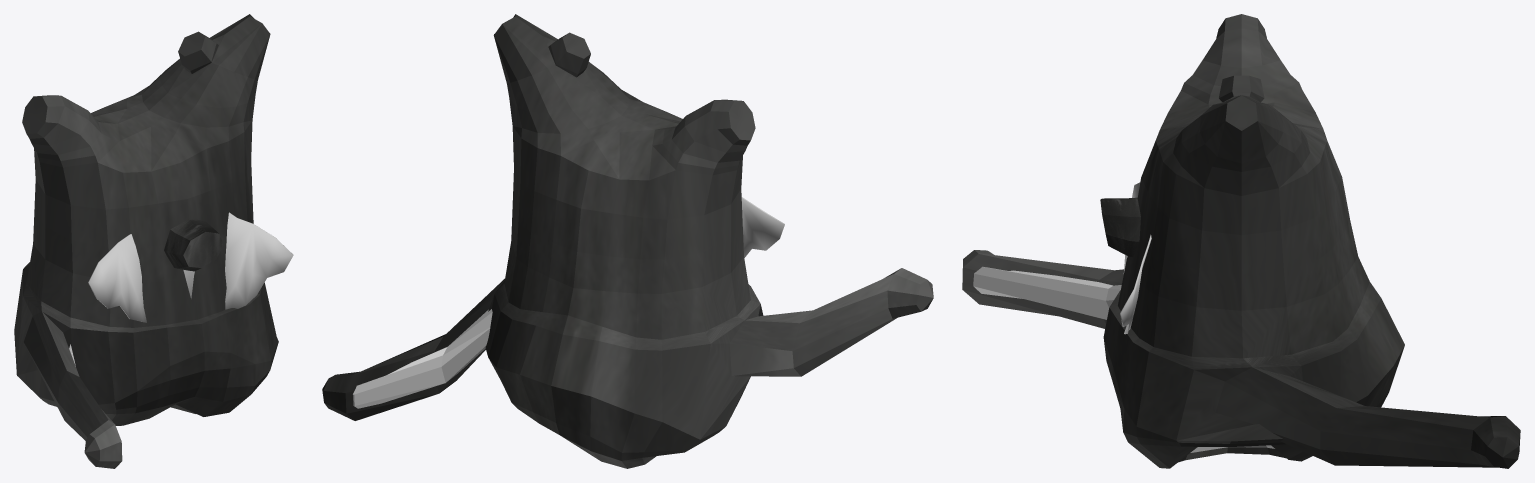
The model's file is frame_0061.obj.
3 views of the same model, side by side, from view 1: azimuth 30°, elevation 25°; view 2: azimuth 150°, elevation 25°; view 3: azimuth 270°, elevation 25° (orthographic). The views are drawn at different scales.
Visible parts, largest first — view 1: korok, leaf, nose; view 2: korok, leaf; view 3: korok, nose, leaf.
Part boxes in pixels (x1,y1,x2,y2): korok: (14,14,278,468); leaf: (88,212,293,322); nose: (164,219,223,271); korok: (322,14,933,468); leaf: (741,197,784,257); korok: (962,14,1520,468); nose: (1100,197,1140,257); leaf: (1120,182,1151,334).
Size of the model in its own units: 1.78 by 1.77 by 2.17.
